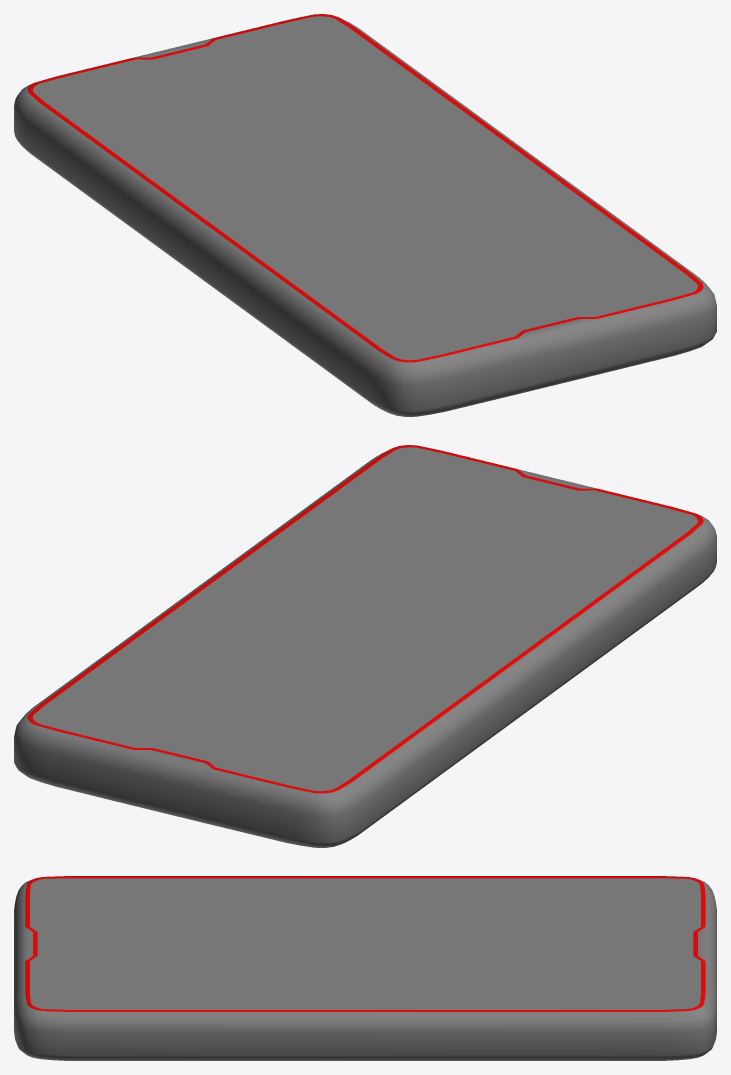
The model's file is speed1Big.fbx.
3 views of the same model, one above another, from view 1: azimuth 30°, elevation 25°; view 2: azimuth 150°, elevation 25°; view 3: azimuth 270°, elevation 25° (orthographic). The views are drawn at different scales.
Visible parts, largest first — view 1: speed2Big; view 2: speed2Big; view 3: speed2Big.
Boxes of the visible parts, x1,y1,x2,y2 form: speed2Big: (14, 14, 716, 416); speed2Big: (14, 445, 716, 847); speed2Big: (14, 876, 716, 1060).
Size of the model in its own units: 0.9842 by 0.1591 by 2.
